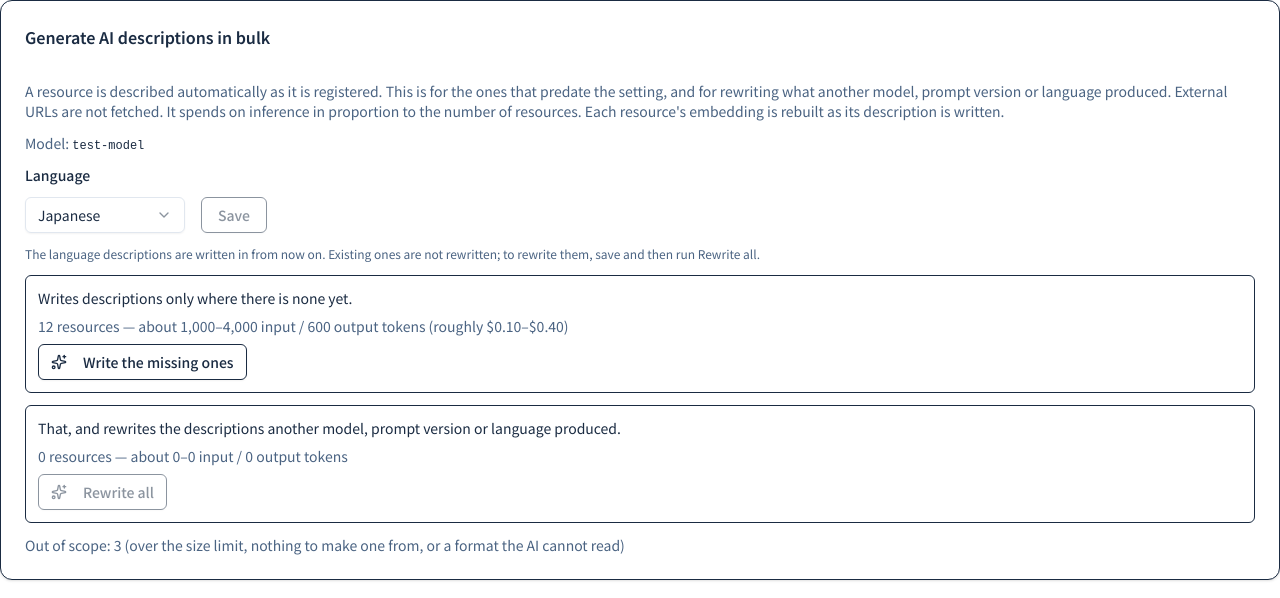
SummaryGenerationCard once a generation is queued › lets go when the jobs are done, though skipped resources stay in the estimate
This screenshot has width=1280, height=598.
Expected: the text "12 resources" is shown, [38,316,426,336]
Click the button "Write the missing ones" at (142, 362), box [38,344,247,380]
Wait 1000 ms
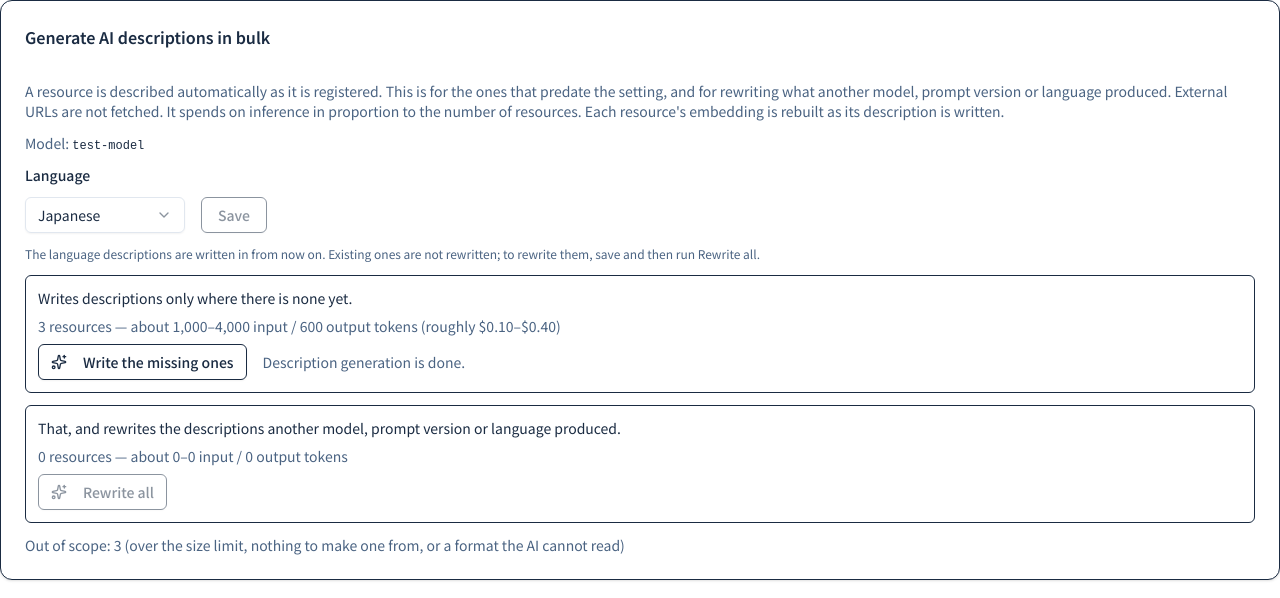
Result: the text "Description generation is done." is shown at [263,352,465,372]
Result: the text "3 resources" is shown at [38,316,418,336]
